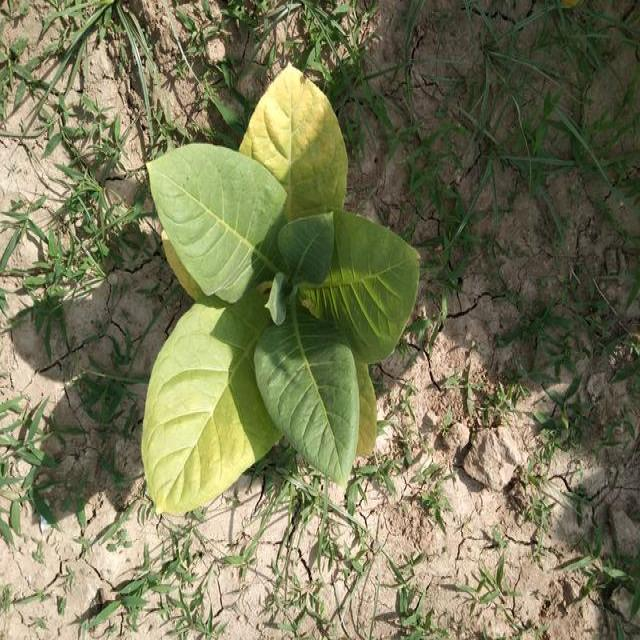crop: (132, 66, 423, 539)
